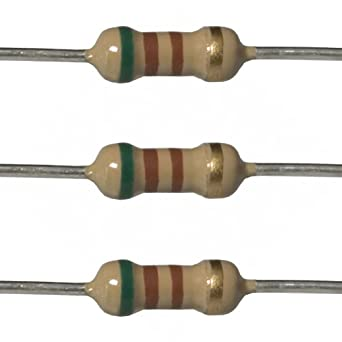Resistor: (88, 142, 248, 200), (92, 25, 248, 84), (92, 259, 245, 317)
